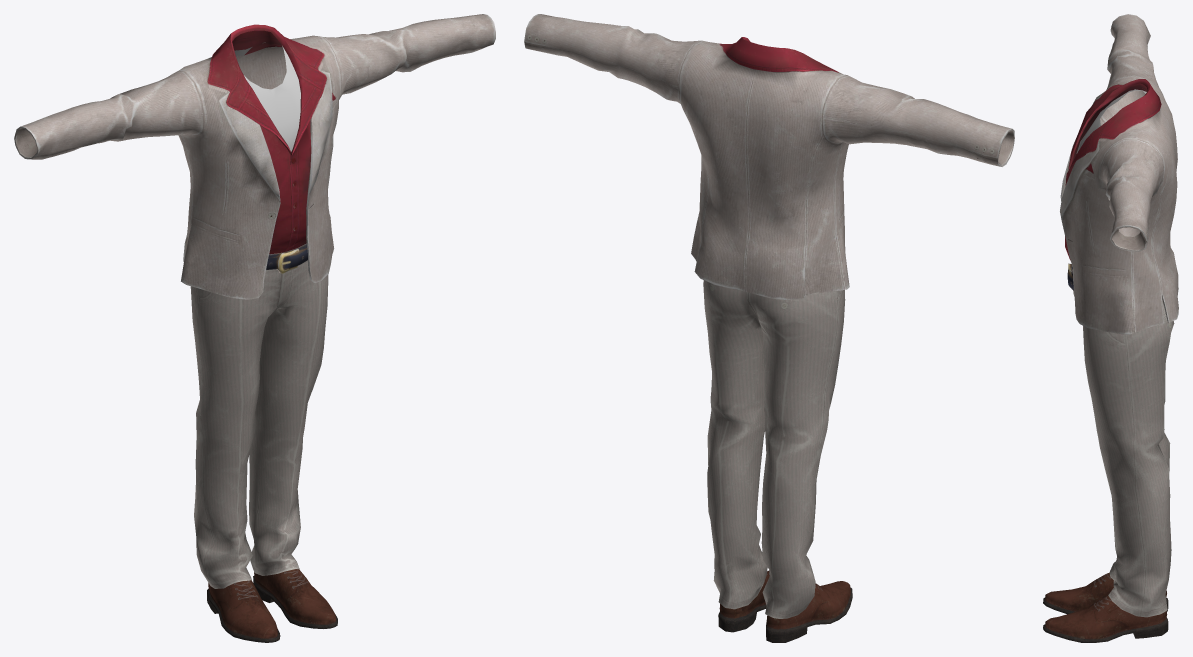
Rendered from suit_of_savage_epic.glb.
3 views of the same model, side by side, from view 1: azimuth 30°, elevation 25°; view 2: azimuth 150°, elevation 25°; view 3: azimuth 270°, elevation 25° (orthographic). The views are drawn at different scales.
Visible parts, largest first — view 1: B_C_06_Suit of Savage_jacket_LOD0, B_C_06_Suit of Savage_pants_LOD0, B_C_06_Suit of Savage_shoes_LOD0; view 2: B_C_06_Suit of Savage_jacket_LOD0, B_C_06_Suit of Savage_pants_LOD0, B_C_06_Suit of Savage_shoes_LOD0; view 3: B_C_06_Suit of Savage_jacket_LOD0, B_C_06_Suit of Savage_pants_LOD0, B_C_06_Suit of Savage_shoes_LOD0.
Part boxes in pixels (x1,y1,x2,y2): B_C_06_Suit of Savage_jacket_LOD0: [14, 14, 495, 299]; B_C_06_Suit of Savage_pants_LOD0: [190, 243, 328, 588]; B_C_06_Suit of Savage_shoes_LOD0: [207, 569, 337, 642]; B_C_06_Suit of Savage_jacket_LOD0: [524, 14, 1014, 299]; B_C_06_Suit of Savage_pants_LOD0: [703, 280, 845, 618]; B_C_06_Suit of Savage_shoes_LOD0: [718, 570, 852, 642]; B_C_06_Suit of Savage_jacket_LOD0: [1060, 14, 1178, 334]; B_C_06_Suit of Savage_pants_LOD0: [1067, 263, 1174, 617]; B_C_06_Suit of Savage_shoes_LOD0: [1043, 572, 1168, 642].
Size of the model in its own units: 1.39 by 1.64 by 0.3763.
4 materials, 3 textured.
